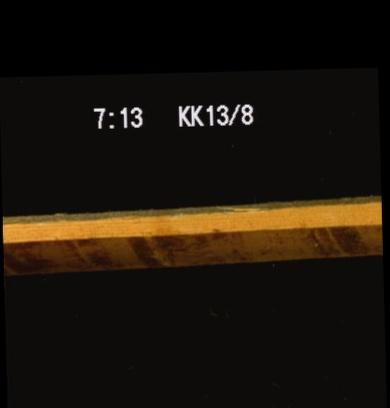wave: (2, 221, 381, 256)
